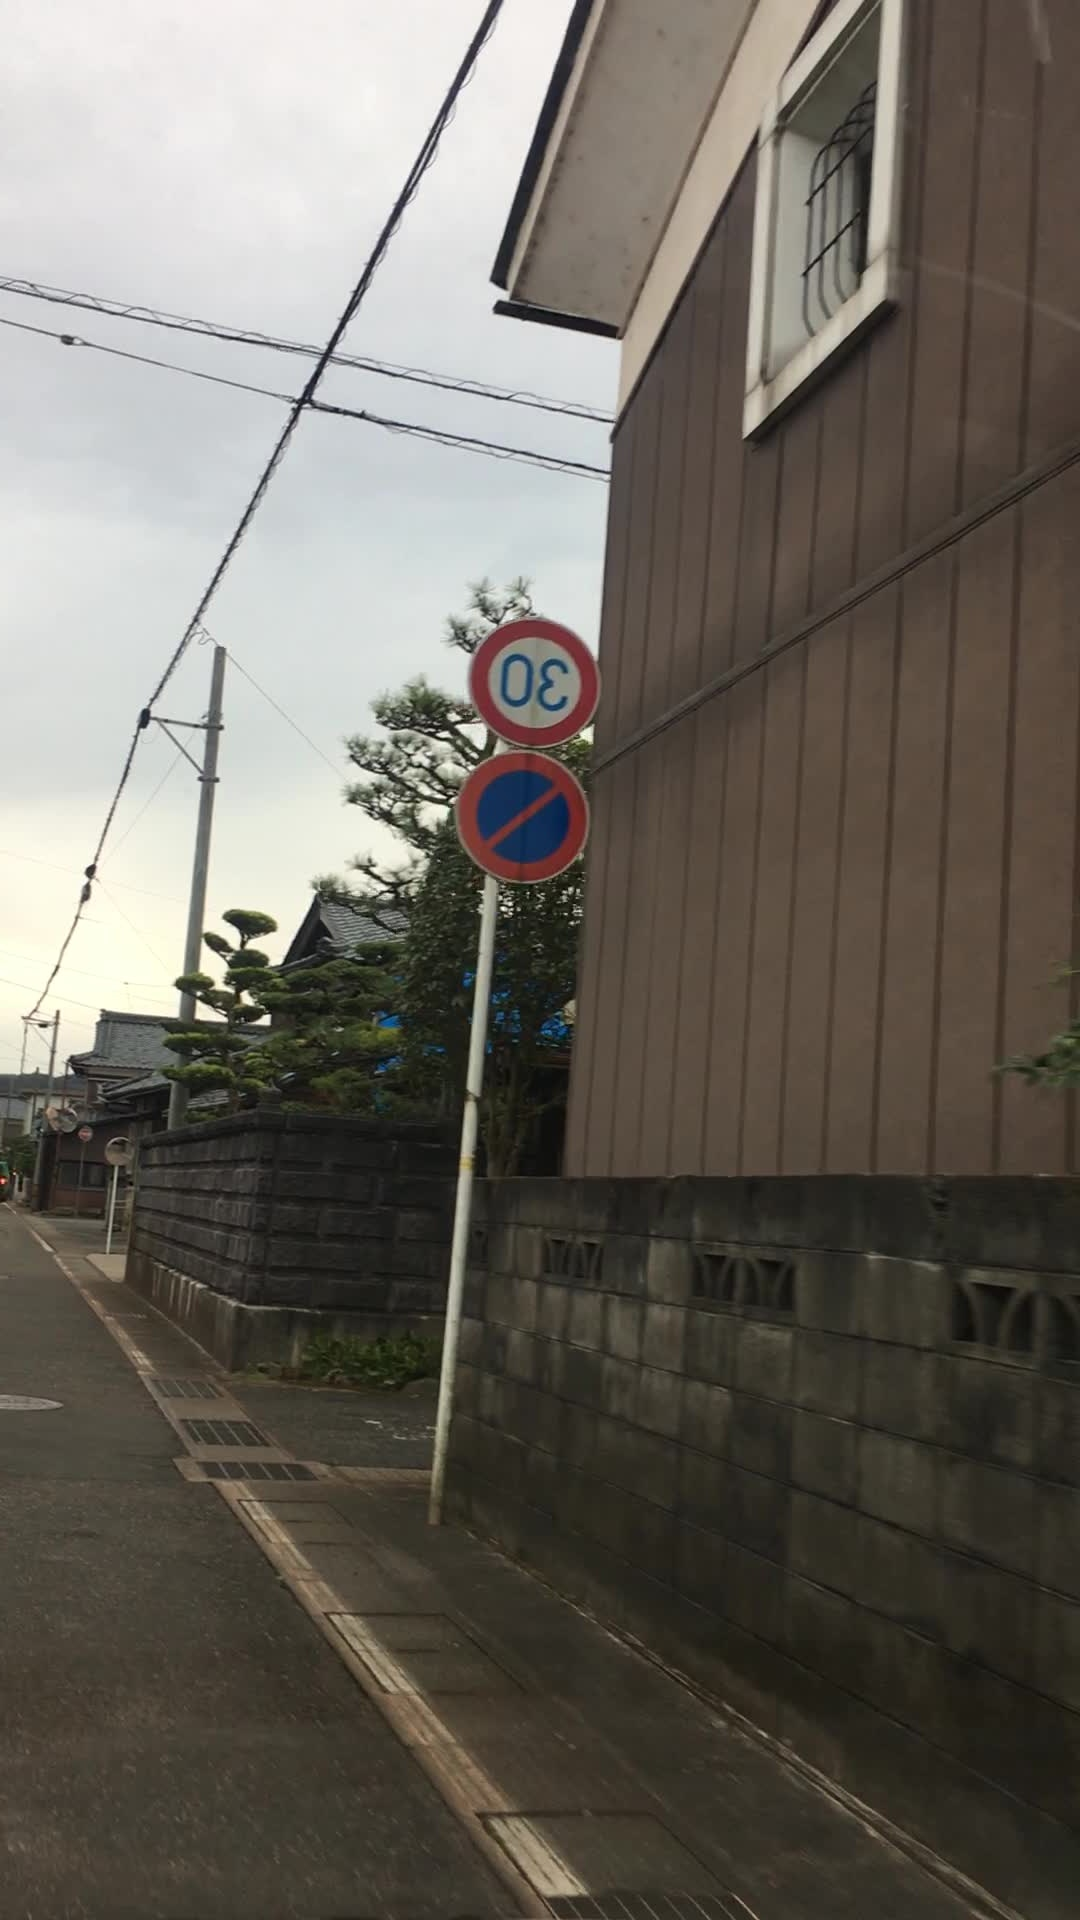Prohibition_sign: (468, 760, 608, 902)
Speed_sign: (464, 616, 604, 756)
